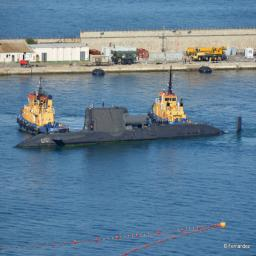submarine: (17, 108, 243, 150)
